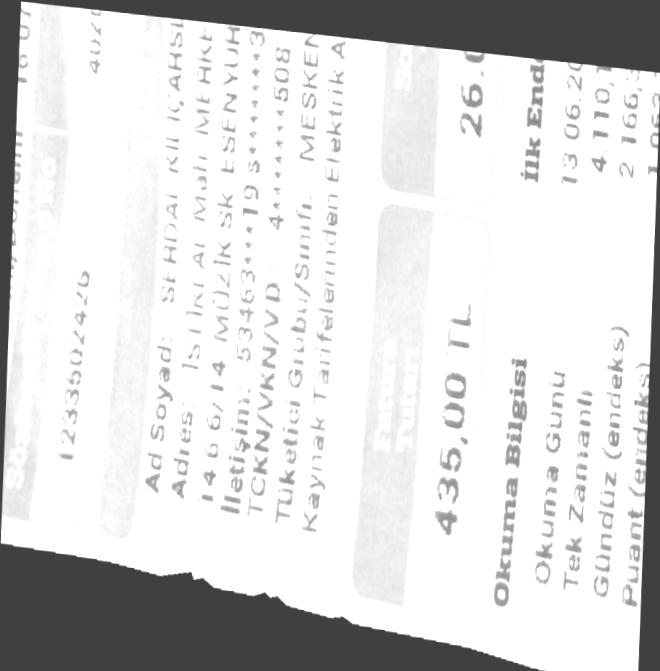electricity-bill: (1, 1, 660, 671)
